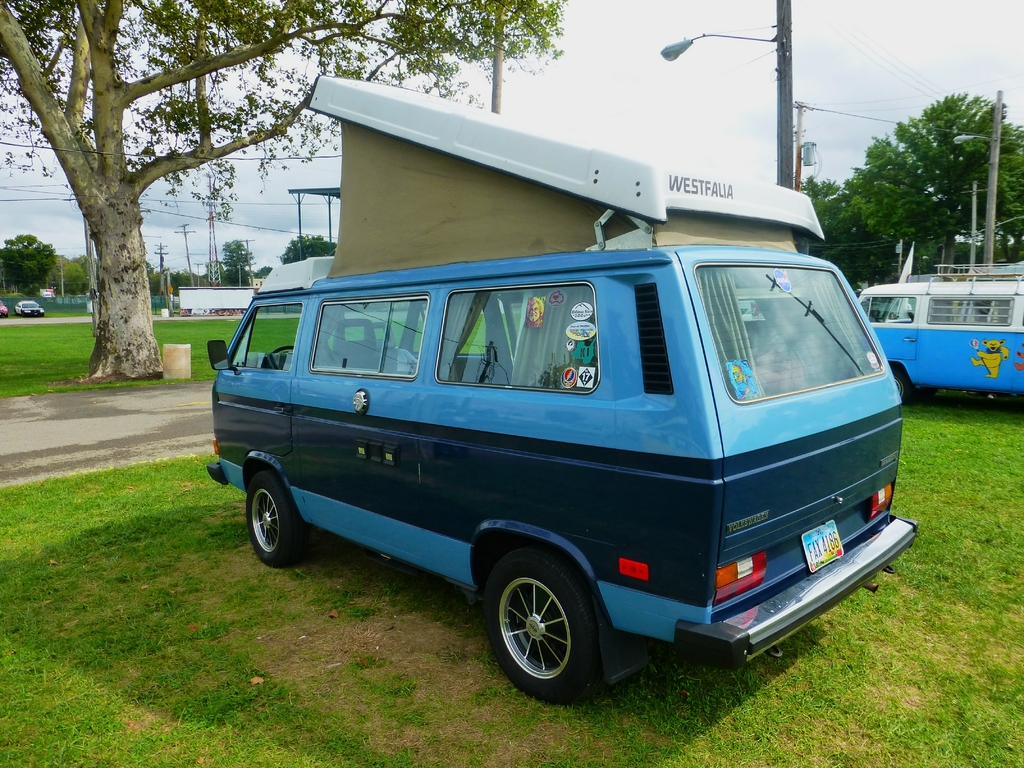Car: (14, 300, 44, 316), (0, 299, 8, 317)
